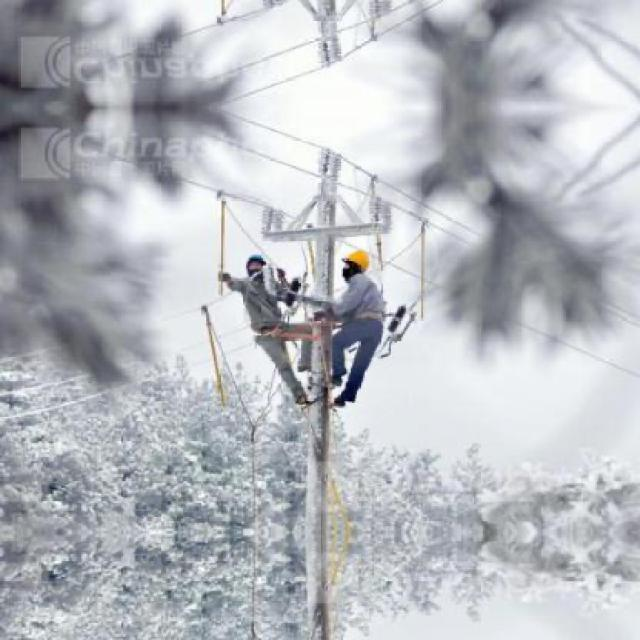helmet: (341, 248, 374, 280), (245, 251, 266, 280)
